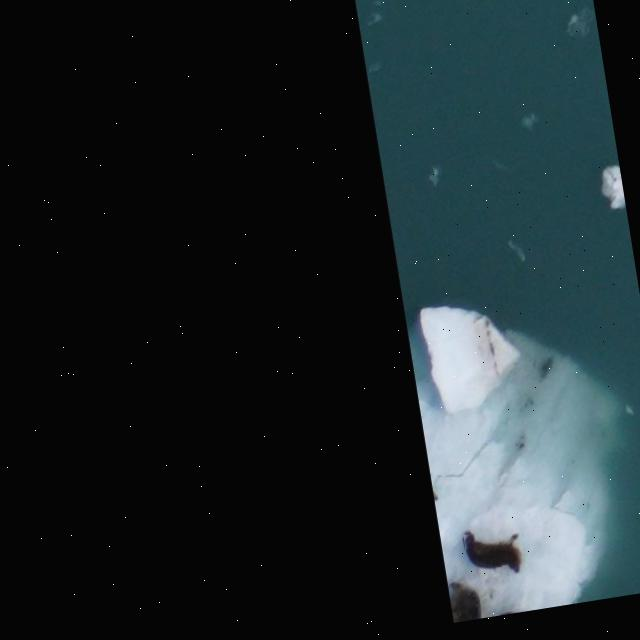seal: (463, 533, 522, 574), (450, 583, 482, 622)
